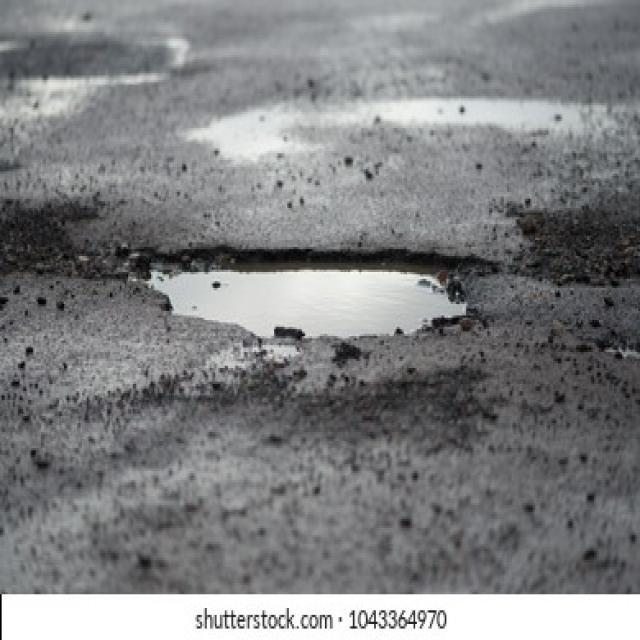Pothole: (123, 240, 497, 345)
